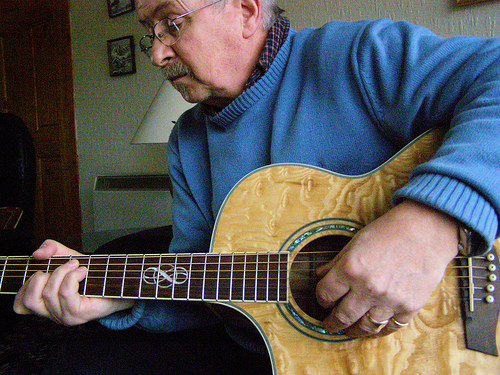guitar: (1, 121, 499, 374)
